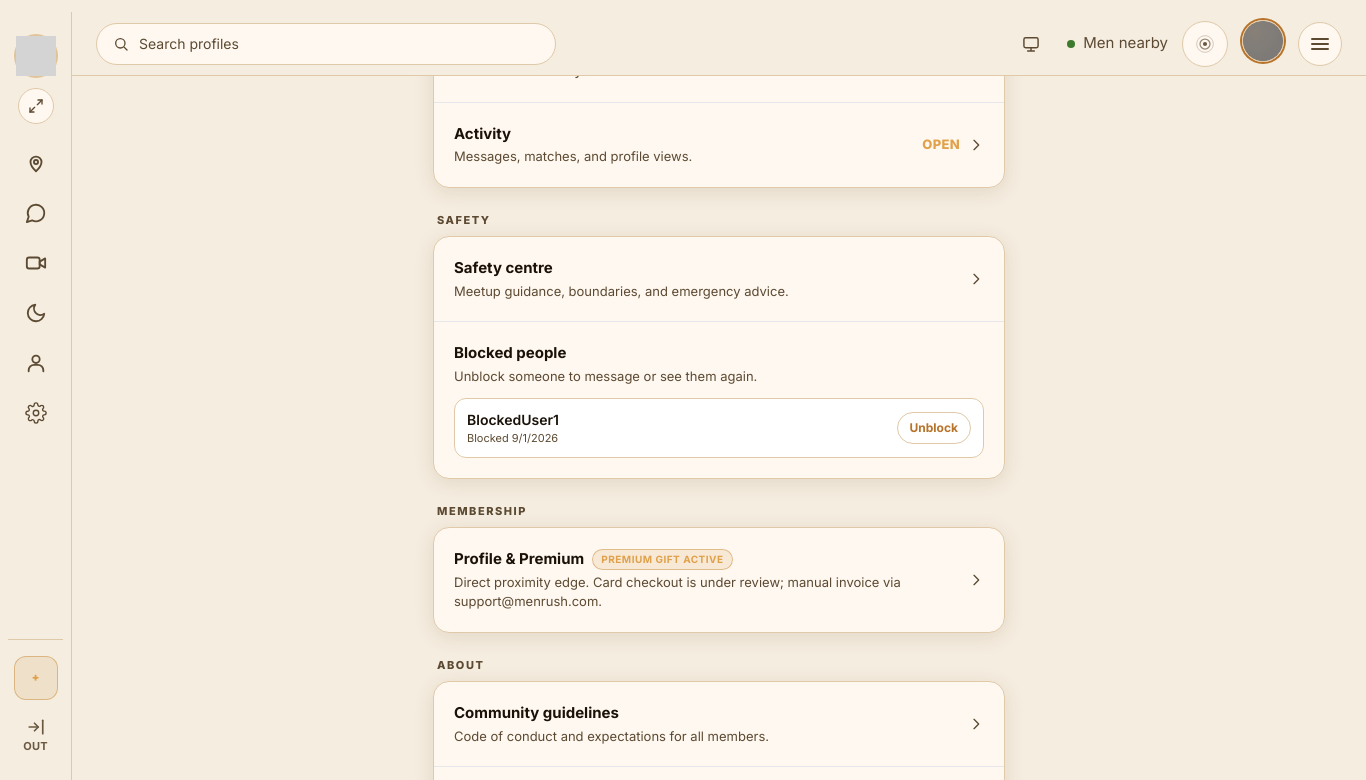
it: Settings IA reorganisation (phone-first sectioned) › unblocks user and provides feedback notice
(page scrolled)
Expected: the text "BlockedUser1" is shown, [467, 409, 559, 430]
Click the button "Unblock".
click(934, 428)  # box [896, 412, 971, 444]
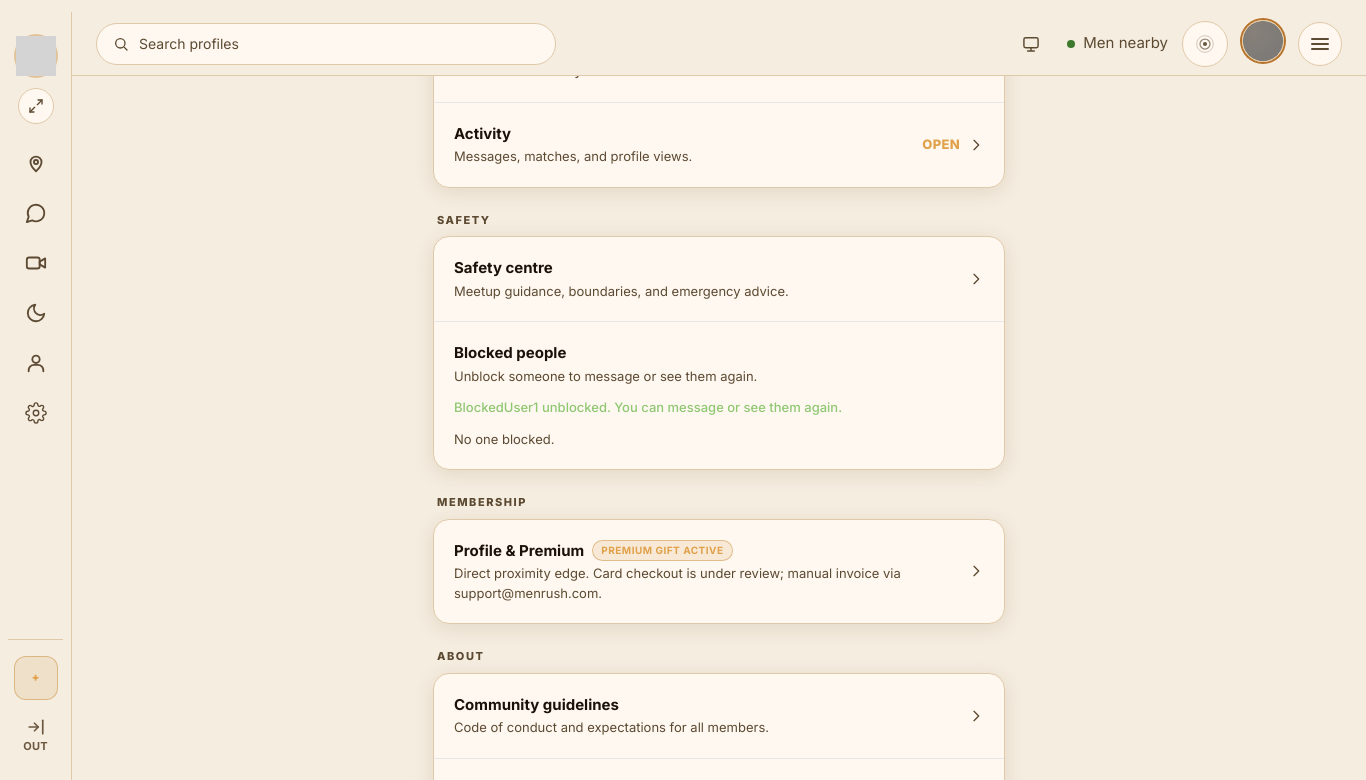
Now the text "BlockedUser1 unblocked. You can message or see them again." is shown, box [454, 399, 842, 415]
